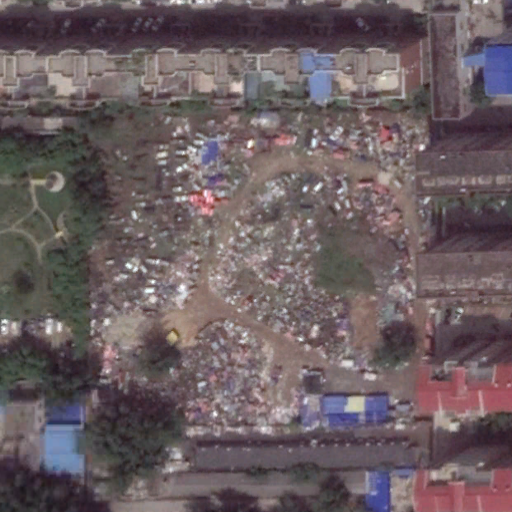msw: (96, 112, 419, 428)
